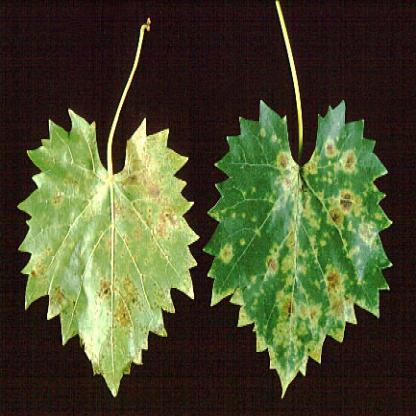grape leaf black rot: (206, 86, 401, 401), (14, 92, 203, 401)
